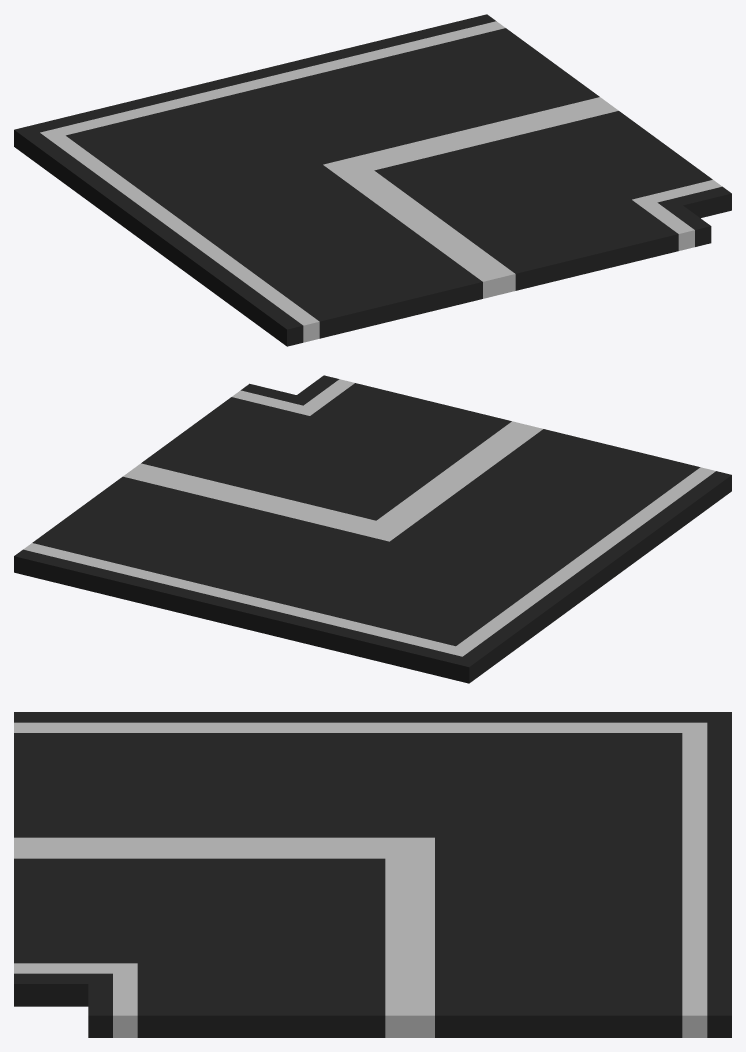
File: road-edgy-curve-2.gltf
3 views of the same model, one above another, from view 1: azimuth 30°, elevation 25°; view 2: azimuth 150°, elevation 25°; view 3: azimuth 270°, elevation 25° (orthographic). The views are drawn at different scales.
Parts seen in each view (by area): view 1: road-edgy-curve-2_model; view 2: road-edgy-curve-2_model; view 3: road-edgy-curve-2_model.
Part boxes in pixels (x1,y1,x2,y2): road-edgy-curve-2_model: [14, 14, 731, 346]; road-edgy-curve-2_model: [14, 375, 731, 683]; road-edgy-curve-2_model: [14, 712, 731, 1037].
Size of the model in its own units: 2.9 by 0.1 by 2.9.
1 material, 1 textured.
